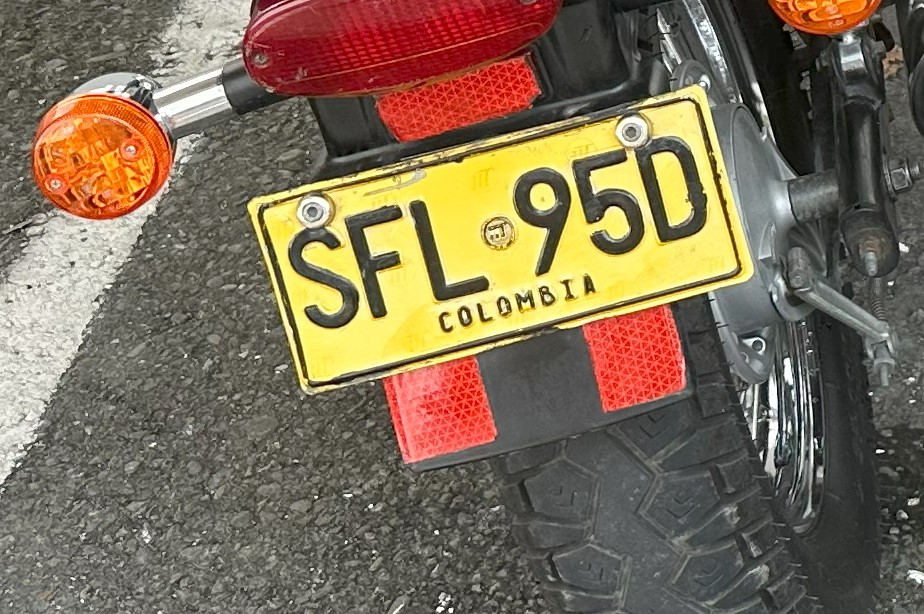number plate: (249, 86, 751, 390), (32, 94, 171, 218)
